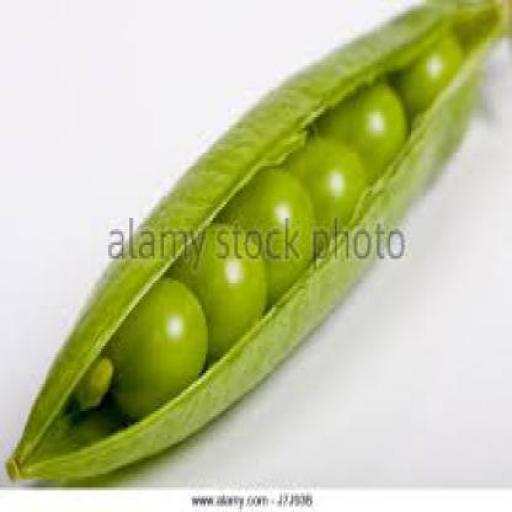biodegradable: (2, 0, 510, 485), (102, 272, 204, 422), (219, 164, 310, 310), (173, 221, 263, 362), (314, 73, 410, 185), (282, 131, 368, 235), (394, 27, 463, 126)
